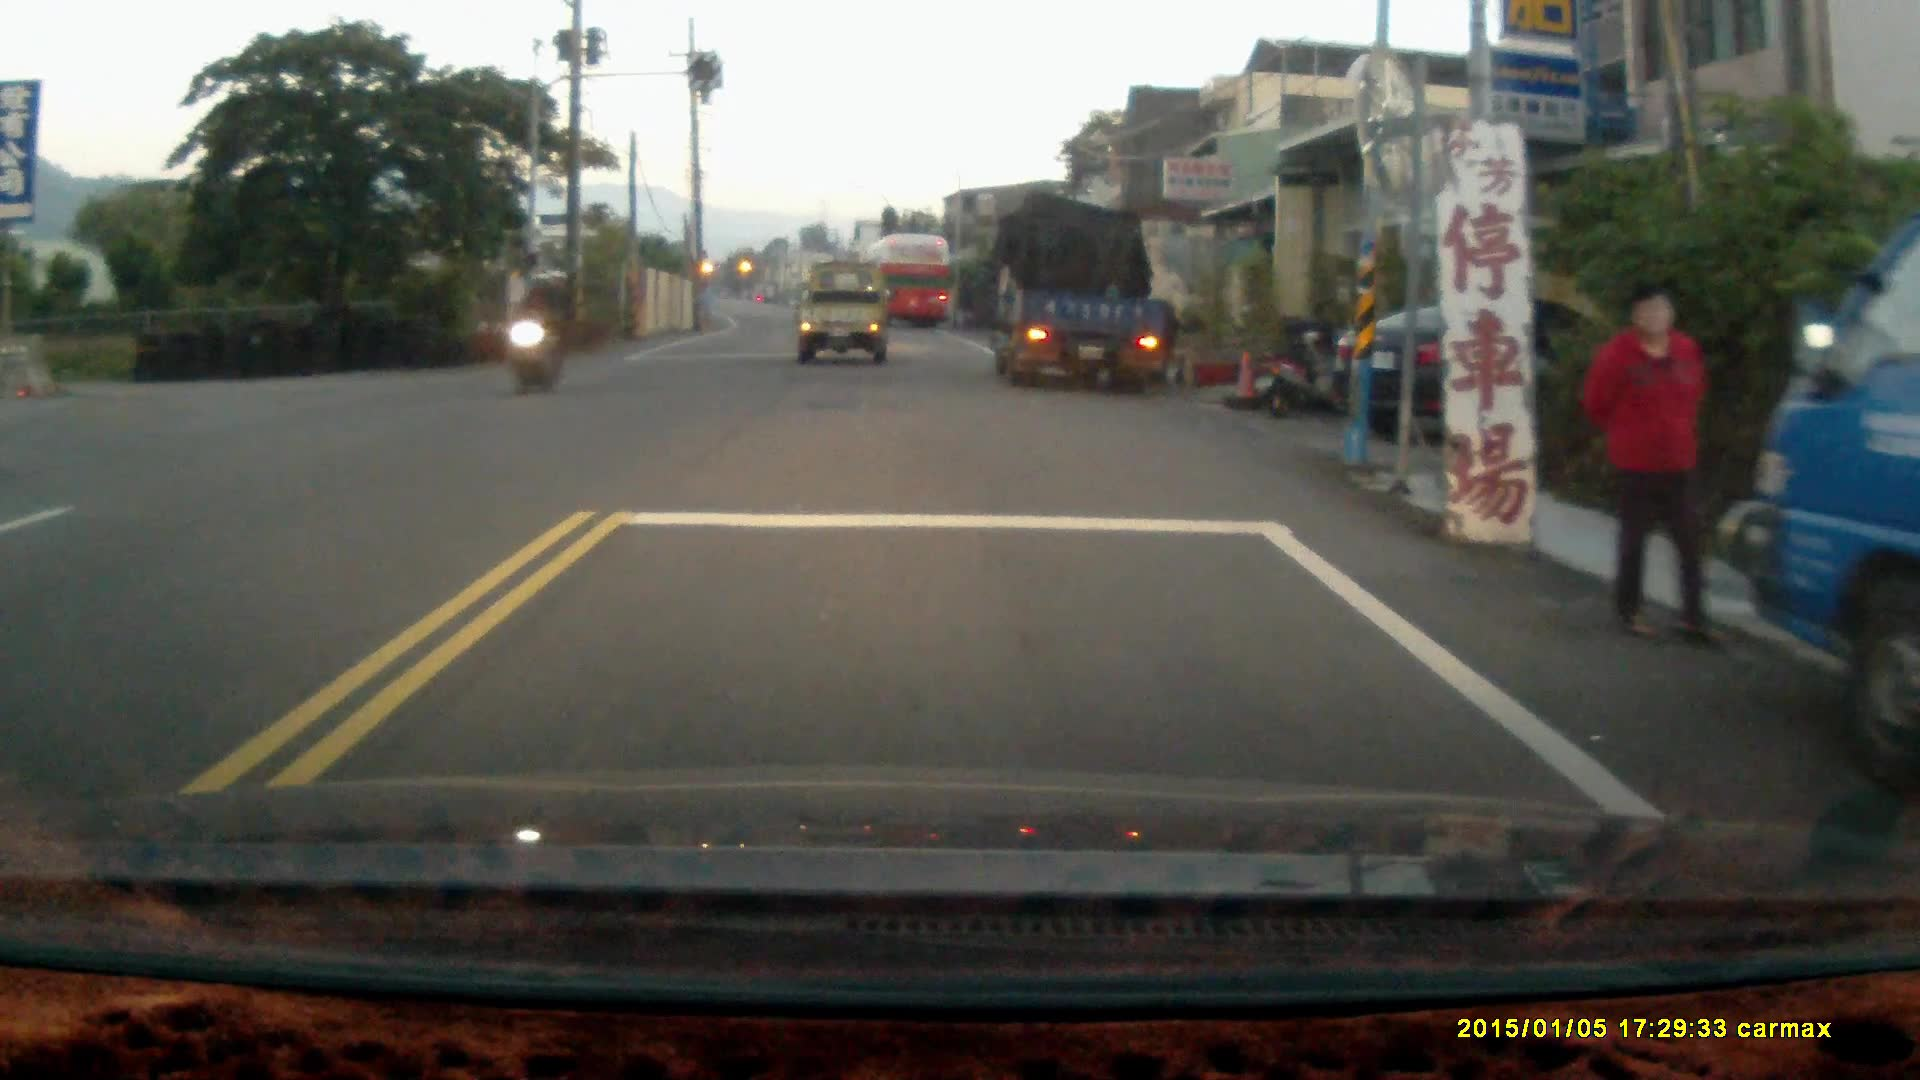pedestrian: (1584, 280, 1717, 654)
rider: (503, 268, 576, 398)
vehicle: (1718, 199, 1919, 811), (1335, 292, 1686, 452), (994, 195, 1181, 389), (797, 262, 892, 374), (863, 232, 957, 331)
